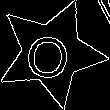O_N: (27, 26, 76, 81)
